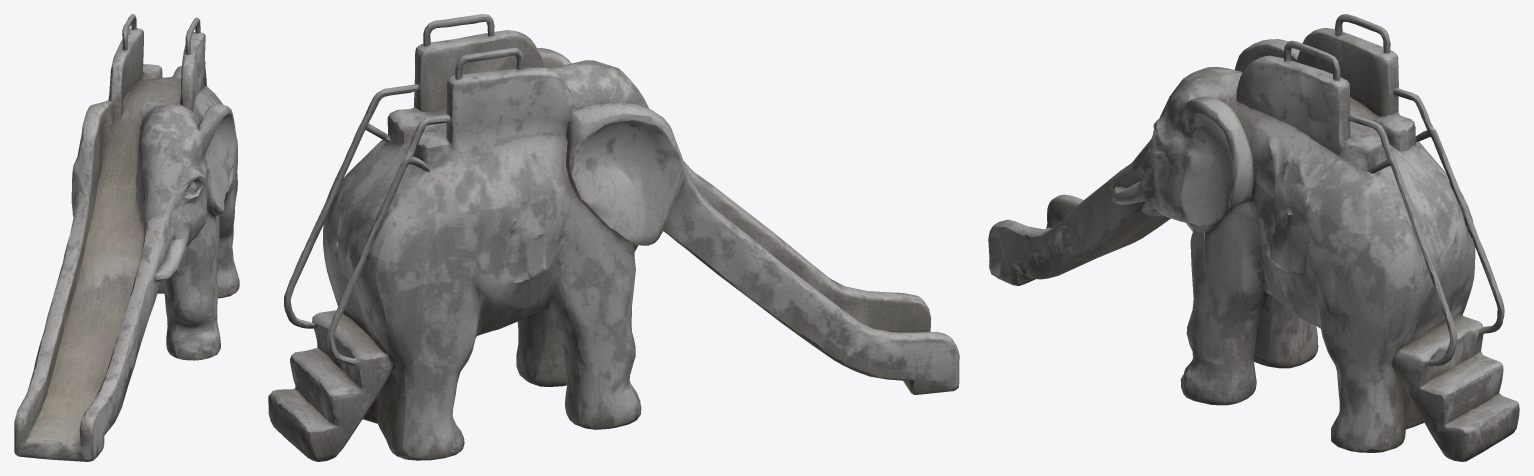
Rendered from lm_elephant.glb.
3 renders of one model, left to right at view 1: azimuth 30°, elevation 25°; view 2: azimuth 150°, elevation 25°; view 3: azimuth 270°, elevation 25°, orthographic. The views are drawn at different scales.
Visible parts, largest first — view 1: world; view 2: world; view 3: world.
Boxes of the visible parts, x1,y1,x2,y2 form: world: (14, 14, 239, 461); world: (268, 14, 959, 461); world: (988, 14, 1519, 461).
Bounding box in the file's own units: 19.59 × 15 × 19.56.
1 material, 1 textured.
